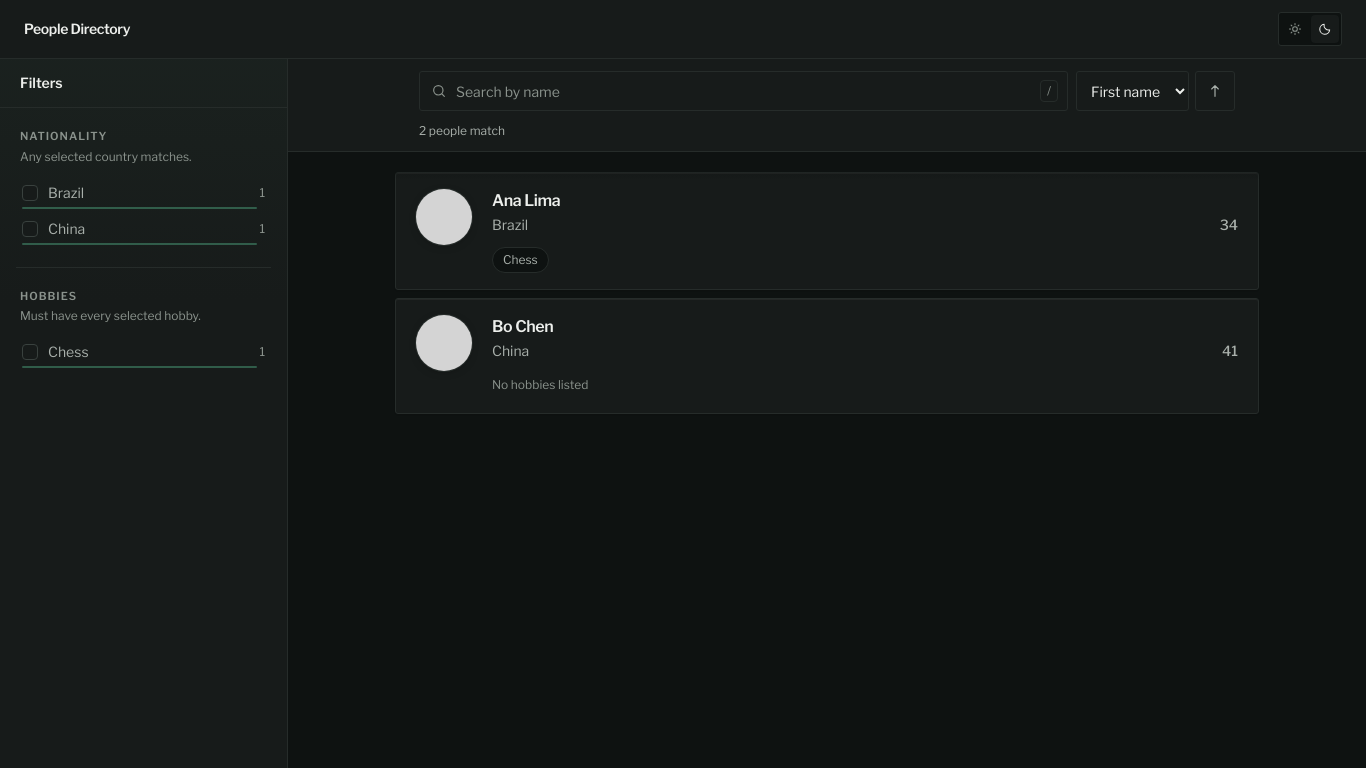
Test: App › toggles a facet into the request and shows it as a removable chip
expect the text "2 people match" is shown: met, box [419,123,505,138]
Click the button "Chess 1".
click(144, 352)  # box [16,334,271,370]
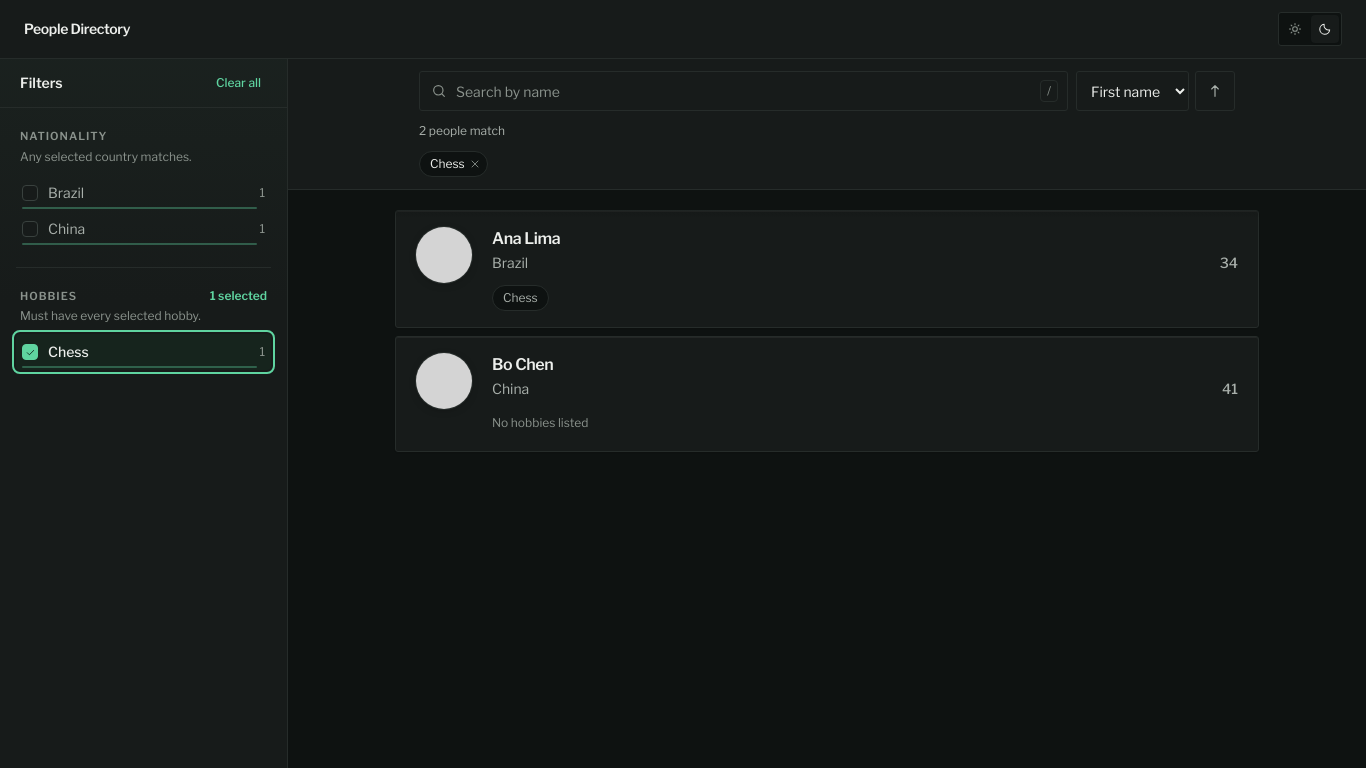
expect the button with aria-label "Remove filter Chess" is shown: met, box [419,151,488,177]
